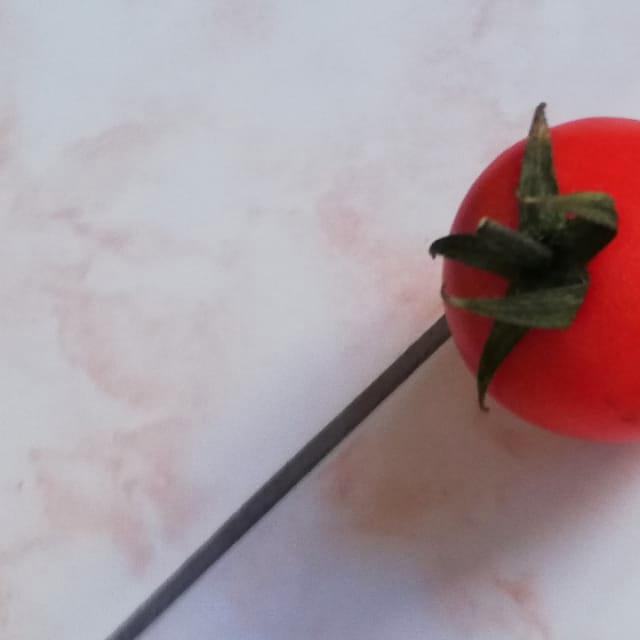tomato: (416, 94, 640, 452)
